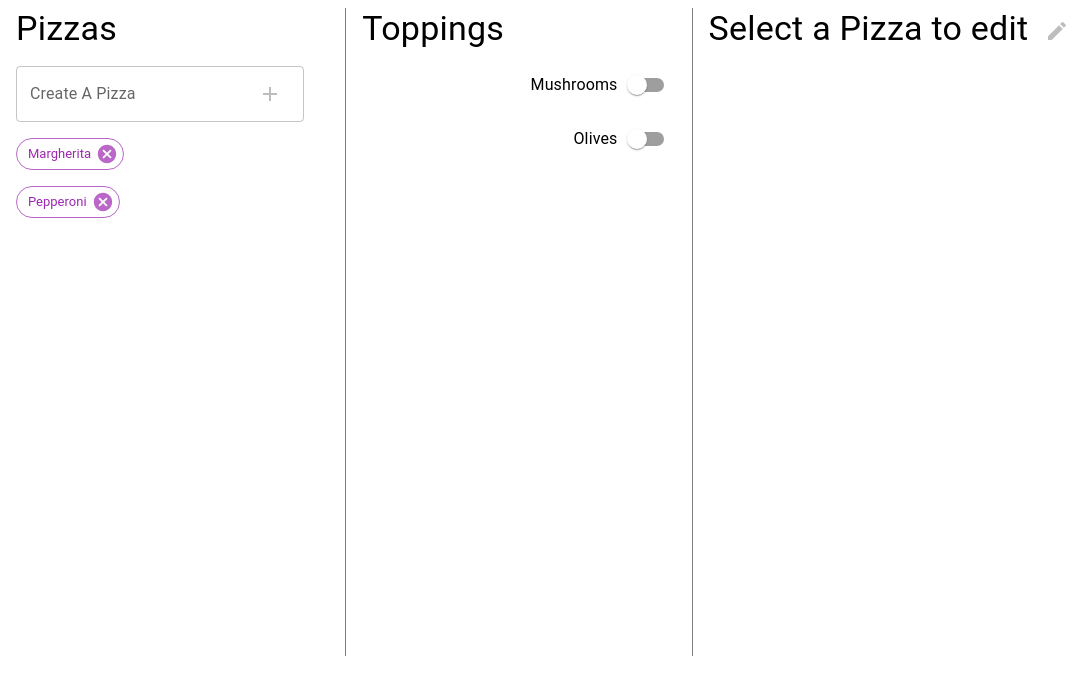
Scenario: Chefs › updates the selected pizza when a pizza is clicked
Click the button "Margherita" at (70, 154), box [16,138,124,170]
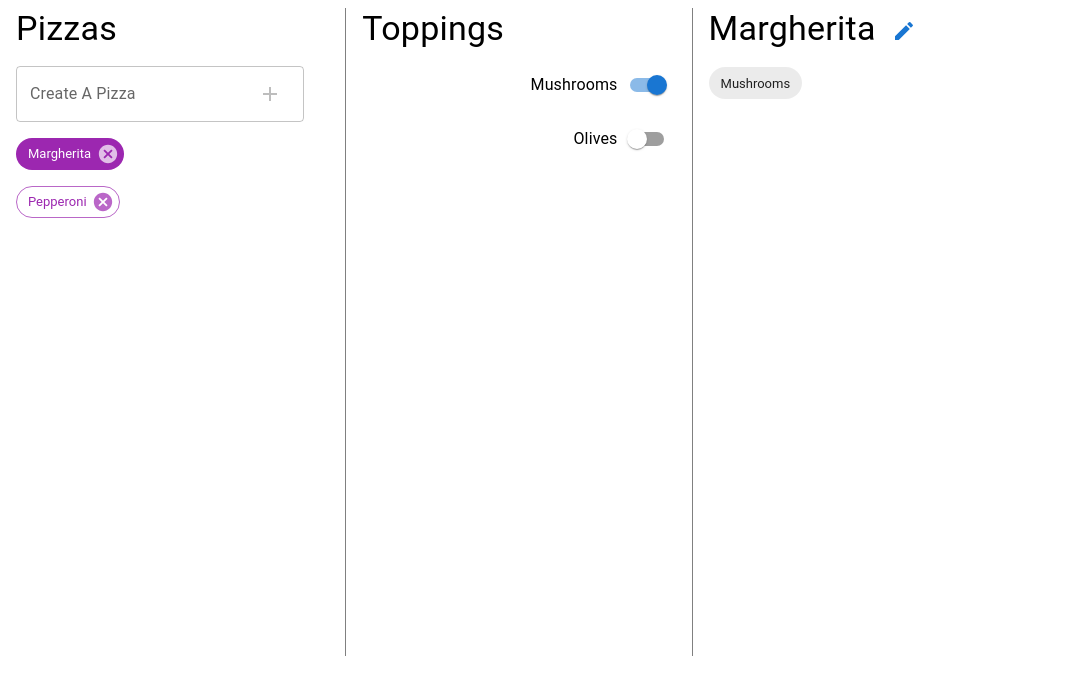
Expected: the element with test id "editable-title-static-text" reads "Margherita", [708,8,876,48]
Expected: the element with test id "pizza-topping-chip-1" is shown, [708,67,802,99]
